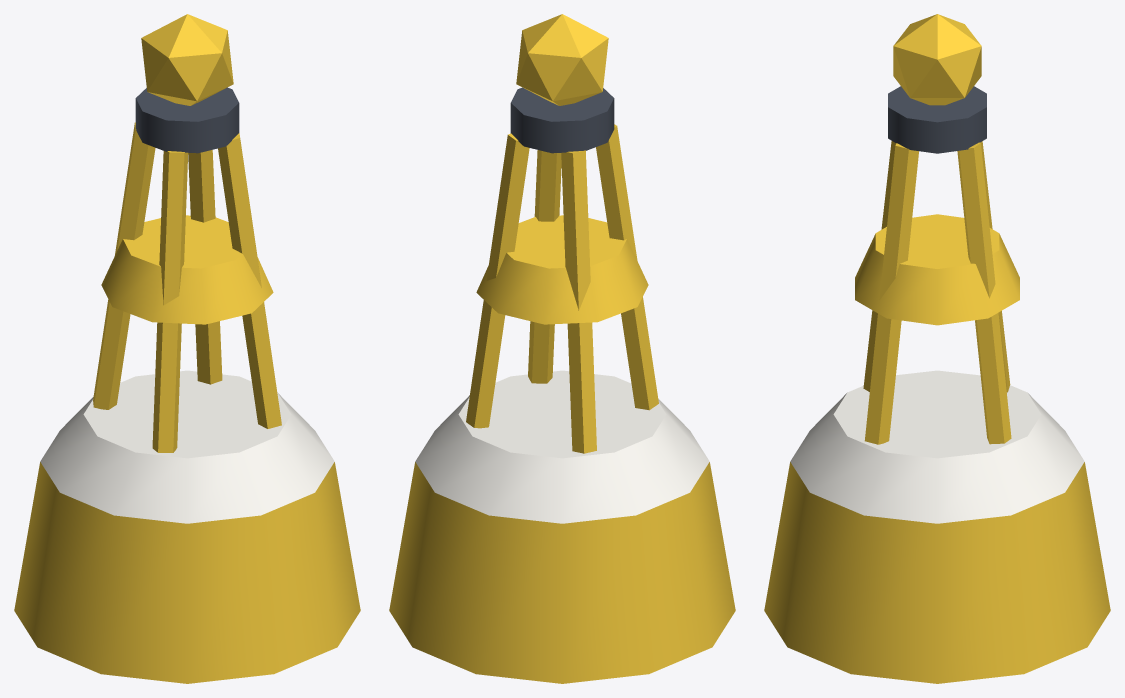
File: buoy_yellow.fbx
The picture shows the model from 3 angles, left to right: view 1: azimuth 30°, elevation 25°; view 2: azimuth 150°, elevation 25°; view 3: azimuth 270°, elevation 25°; orthographic projection.
Visible parts, largest first — view 1: buoy_yellow; view 2: buoy_yellow; view 3: buoy_yellow.
Boxes of the visible parts, x1,y1,x2,y2 form: buoy_yellow: (14,14,360,683); buoy_yellow: (389,14,735,683); buoy_yellow: (764,14,1110,683).
Bounding box in the file's own units: 0.4 × 0.76 × 0.4.
